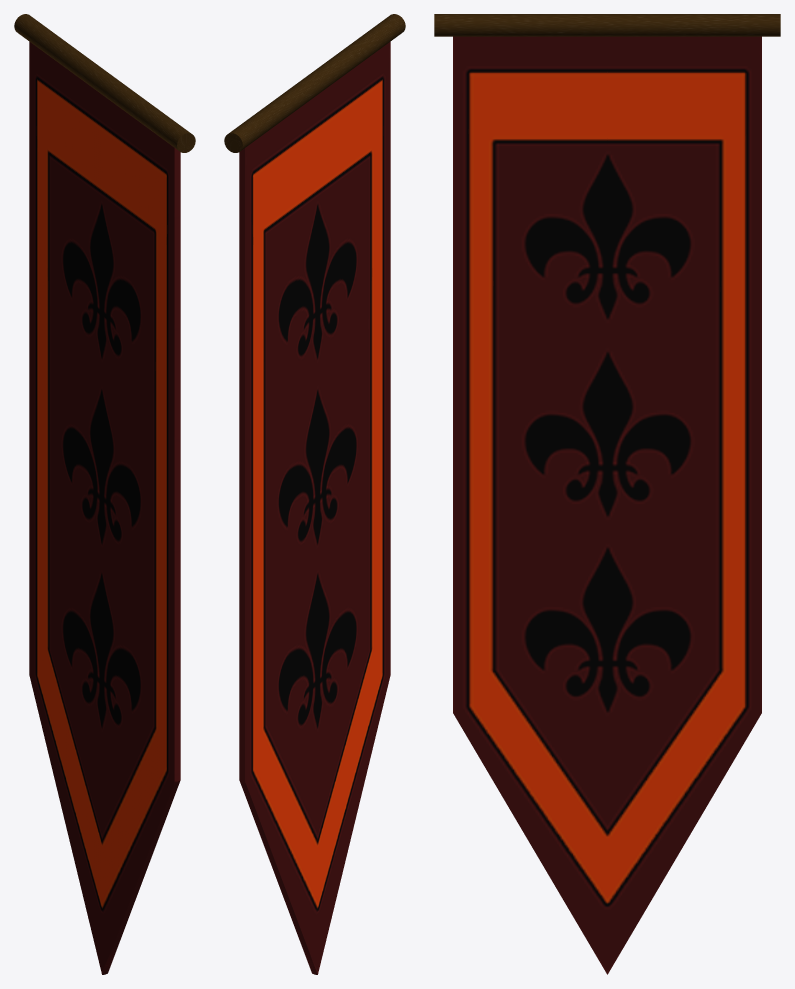
Rendered from banner.fbx.
The picture shows the model from 3 angles, left to right: view 1: azimuth 30°, elevation 25°; view 2: azimuth 150°, elevation 25°; view 3: azimuth 270°, elevation 25°; orthographic projection. The views are drawn at different scales.
Visible parts, largest first — view 1: pCylinder36; view 2: pCylinder36; view 3: pCylinder36.
Part boxes in pixels (left/top/right/bottom): pCylinder36: left=14, top=14, right=195, bottom=974; pCylinder36: left=224, top=14, right=405, bottom=974; pCylinder36: left=434, top=14, right=780, bottom=974.
Bounding box in the file's own units: 0.1976 × 9.1 × 2.98.
Materials: 1 (1 with a texture image).
